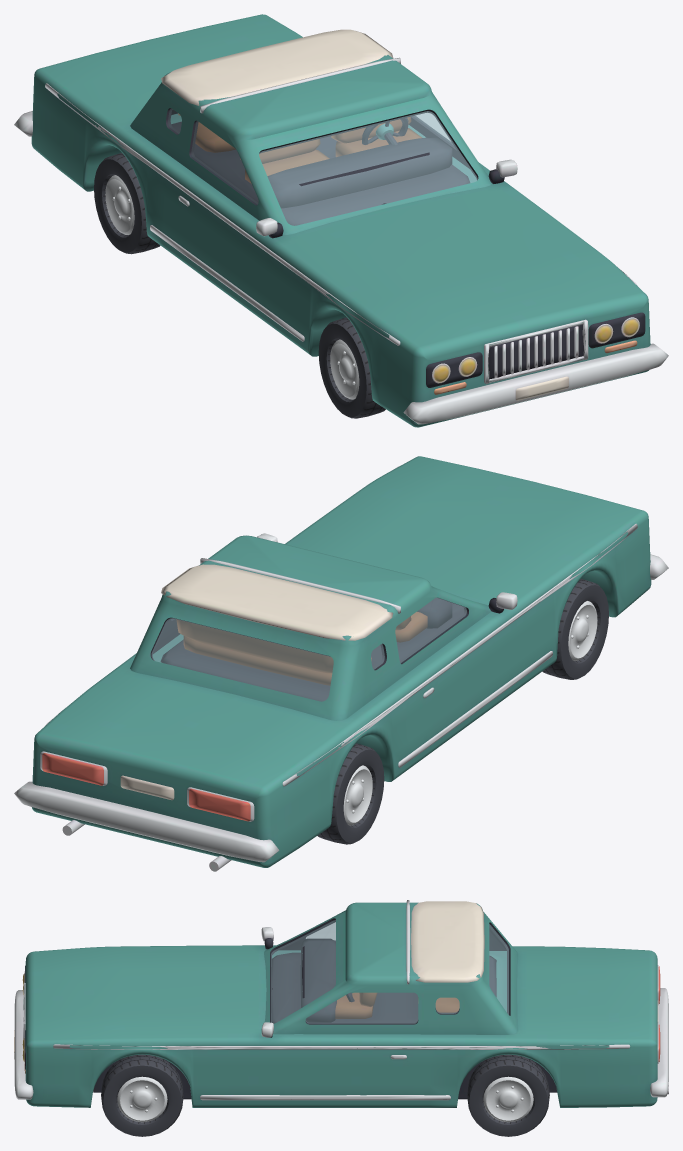
Rendered from 1970s-coupe.glb.
The picture shows the model from 3 angles, top to bottom: view 1: azimuth 30°, elevation 25°; view 2: azimuth 150°, elevation 25°; view 3: azimuth 270°, elevation 25°; orthographic projection. The views are drawn at different scales.
Parts seen in each view (by area): view 1: 1970s-coupe_body, 1970s-coupe_windows, 1970s-coupe_wheel_fr, 1970s-coupe_wheel_rr; view 2: 1970s-coupe_body, 1970s-coupe_windows, 1970s-coupe_wheel_rr, 1970s-coupe_wheel_fr; view 3: 1970s-coupe_body, 1970s-coupe_windows, 1970s-coupe_wheel_rl, 1970s-coupe_wheel_fl.
Part boxes in pixels (x1,y1,x2,y2): 1970s-coupe_body: (14, 14, 668, 427); 1970s-coupe_windows: (168, 108, 477, 225); 1970s-coupe_wheel_fr: (318, 317, 385, 418); 1970s-coupe_wheel_rr: (94, 153, 160, 254); 1970s-coupe_body: (14, 456, 668, 871); 1970s-coupe_windows: (152, 598, 466, 701); 1970s-coupe_wheel_rr: (317, 743, 384, 844); 1970s-coupe_wheel_fr: (542, 578, 608, 679); 1970s-coupe_body: (14, 900, 668, 1107); 1970s-coupe_windows: (271, 920, 508, 1023); 1970s-coupe_wheel_rl: (467, 1054, 549, 1136); 1970s-coupe_wheel_fl: (101, 1054, 183, 1136).
Bounding box in the file's own units: 1.93 × 1.34 × 5.22.
18 materials, 5 textured.
